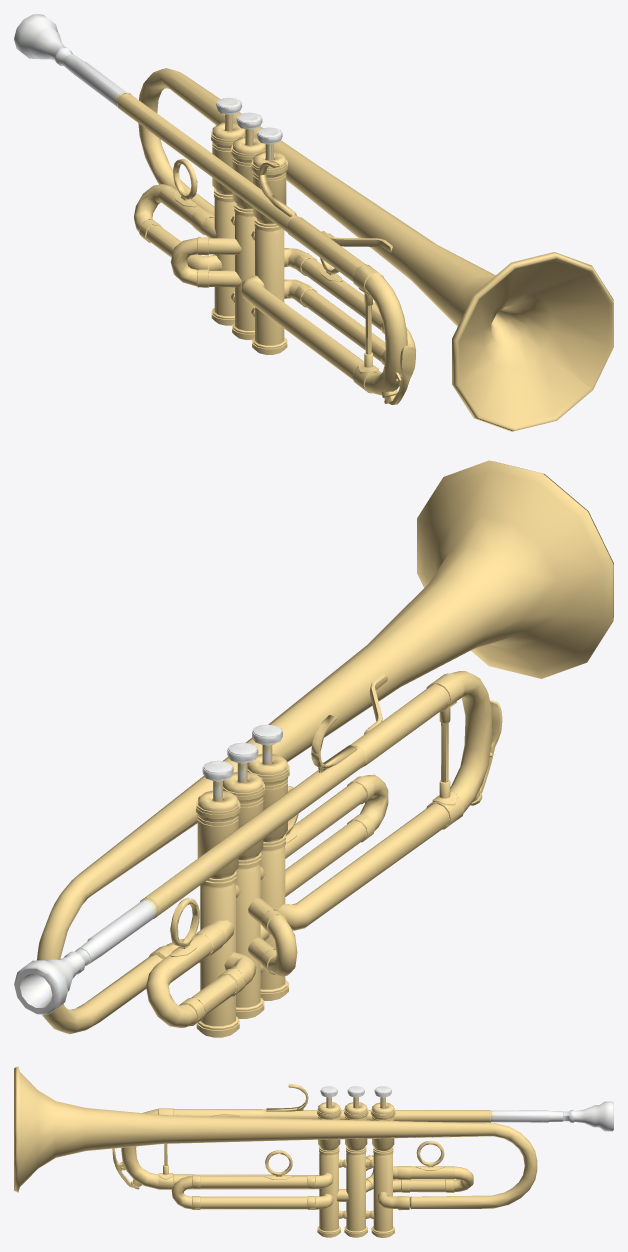
The model's file is trumpet.glb.
3 views of the same model, one above another, from view 1: azimuth 30°, elevation 25°; view 2: azimuth 150°, elevation 25°; view 3: azimuth 270°, elevation 25° (orthographic). The views are drawn at different scales.
Visible parts, largest first — view 1: Trumpet.001_Trumpet_Base_0; view 2: Trumpet.001_Trumpet_Base_0; view 3: Trumpet.001_Trumpet_Base_0.
Part boxes in pixels (x1,y1,x2,y2): Trumpet.001_Trumpet_Base_0: (14,14,613,431); Trumpet.001_Trumpet_Base_0: (14,460,613,1037); Trumpet.001_Trumpet_Base_0: (14,1066,613,1237).
Size of the model in its own units: 0.2191 by 0.3133 by 1.
2 materials, 2 textured.
